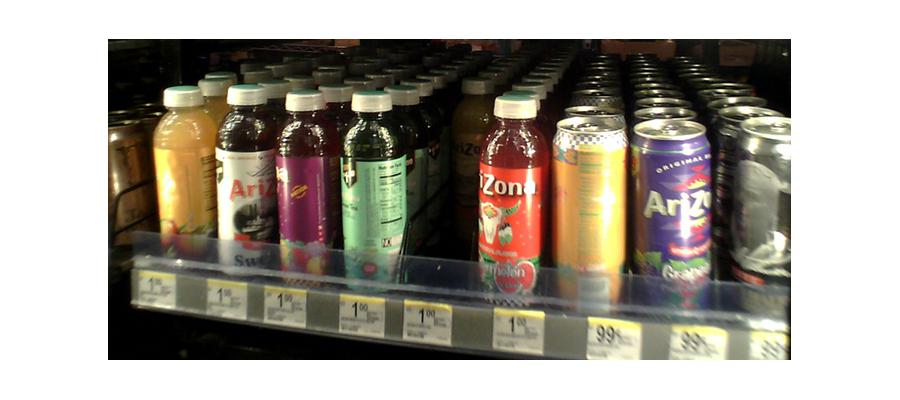bottle: (633, 116, 714, 313), (555, 106, 625, 309), (341, 87, 407, 298), (481, 90, 543, 303), (731, 112, 790, 331), (278, 85, 335, 283), (154, 82, 214, 269), (216, 83, 274, 275)
